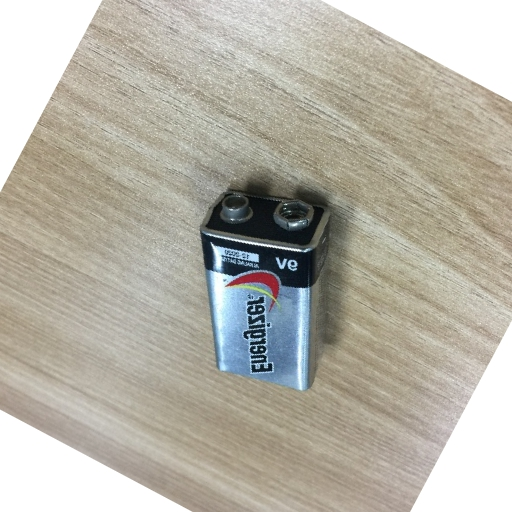Battery_3: (189, 179, 347, 408)
